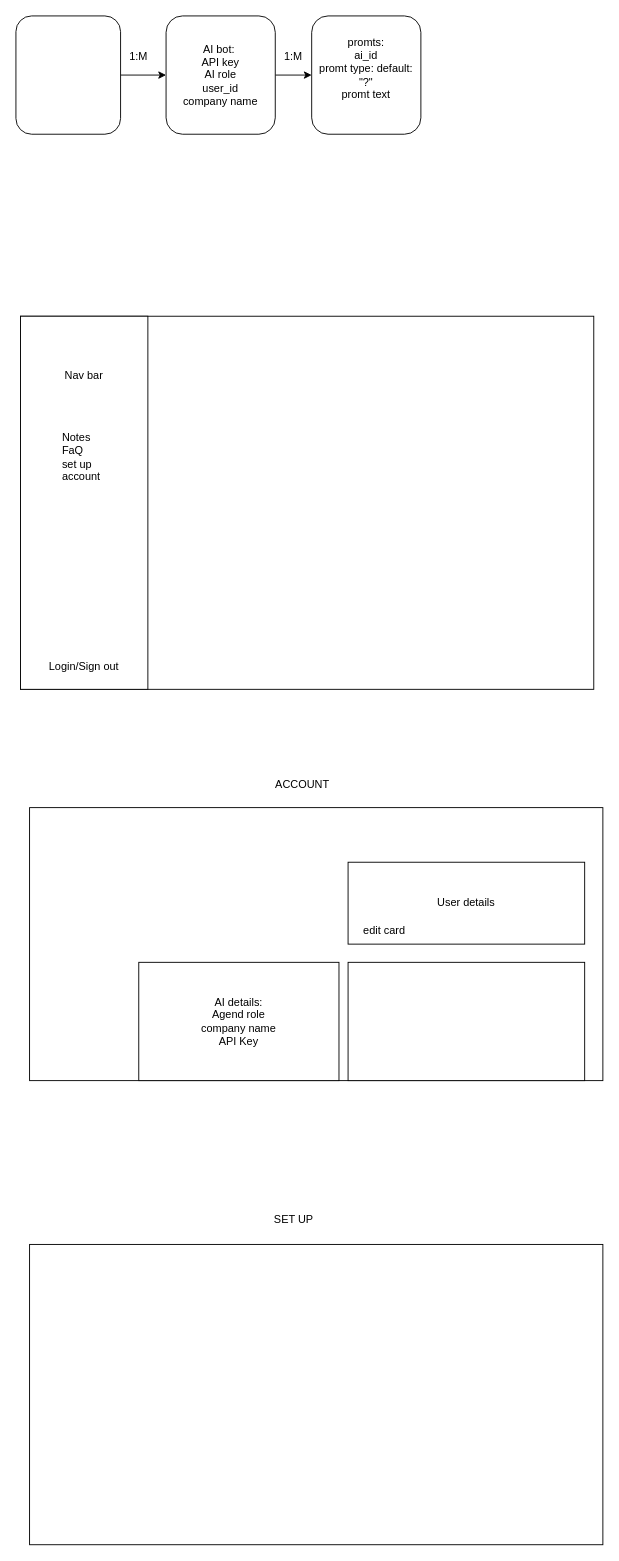
The diagram is 619 pixels wide and 1561 high, and some of its shapes have lost their labels. Here are the shapes that lost their labels. From the top down, the box of each, then its label:
(15, 15, 121, 134): User: name company name Ai role API Key
(347, 961, 585, 1081): Prompt
